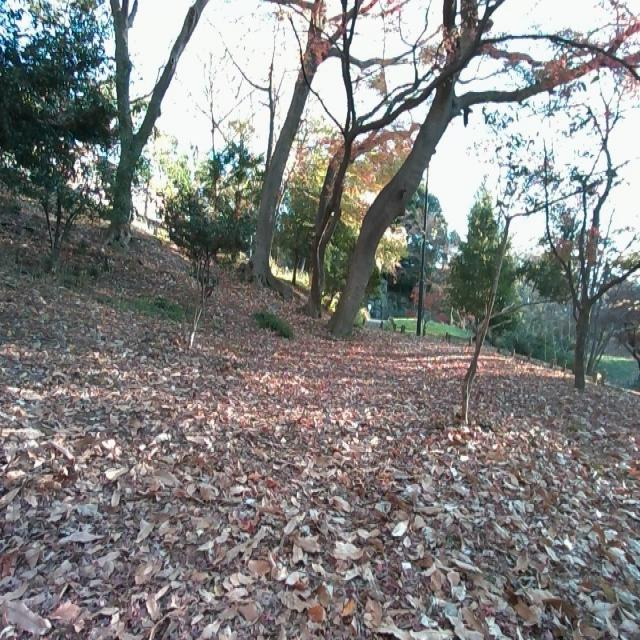bush: (1, 0, 104, 253), (170, 187, 249, 349)
tree: (316, 0, 640, 339), (299, 0, 421, 317), (241, 0, 367, 280), (547, 106, 640, 409), (99, 0, 207, 232), (455, 183, 523, 425)
